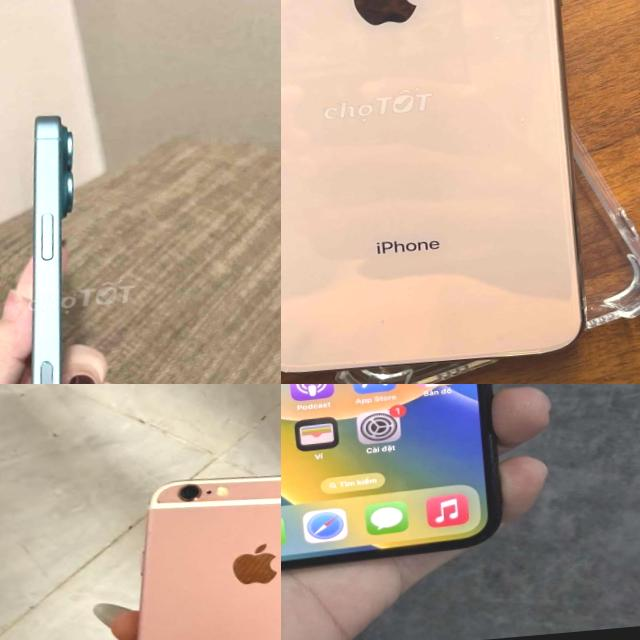gen_16: (0, 103, 123, 384)
gen_6: (93, 464, 281, 640)
gen_x_xs: (281, 0, 640, 384), (281, 384, 510, 580)
scratch: (281, 359, 301, 381), (368, 312, 393, 328), (146, 530, 152, 537), (156, 498, 162, 504)
